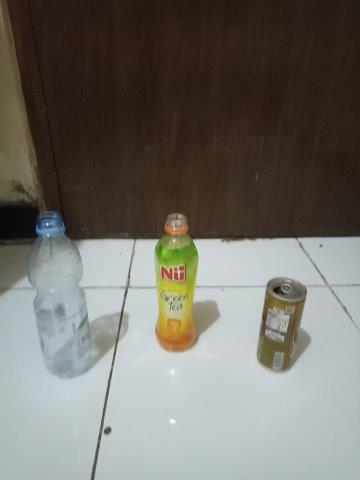botolplastik: (26, 211, 91, 379), (154, 213, 199, 353)
kaleng: (255, 277, 306, 372)
